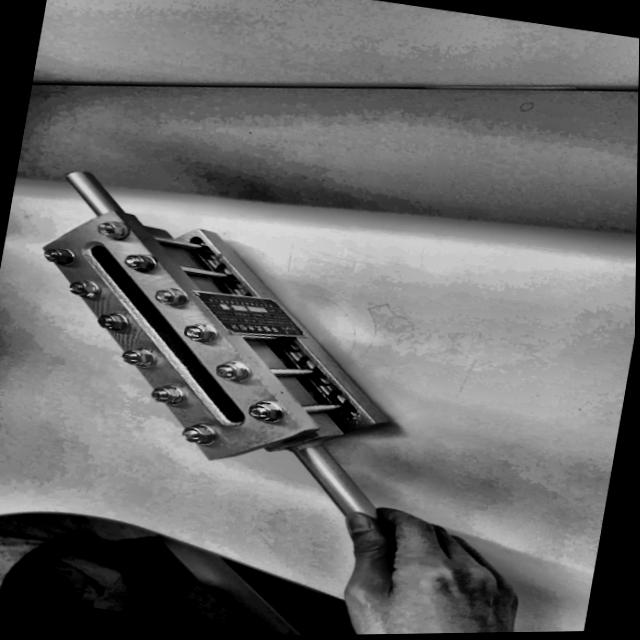ShuiWeiQi_12: (0, 164, 402, 546)
